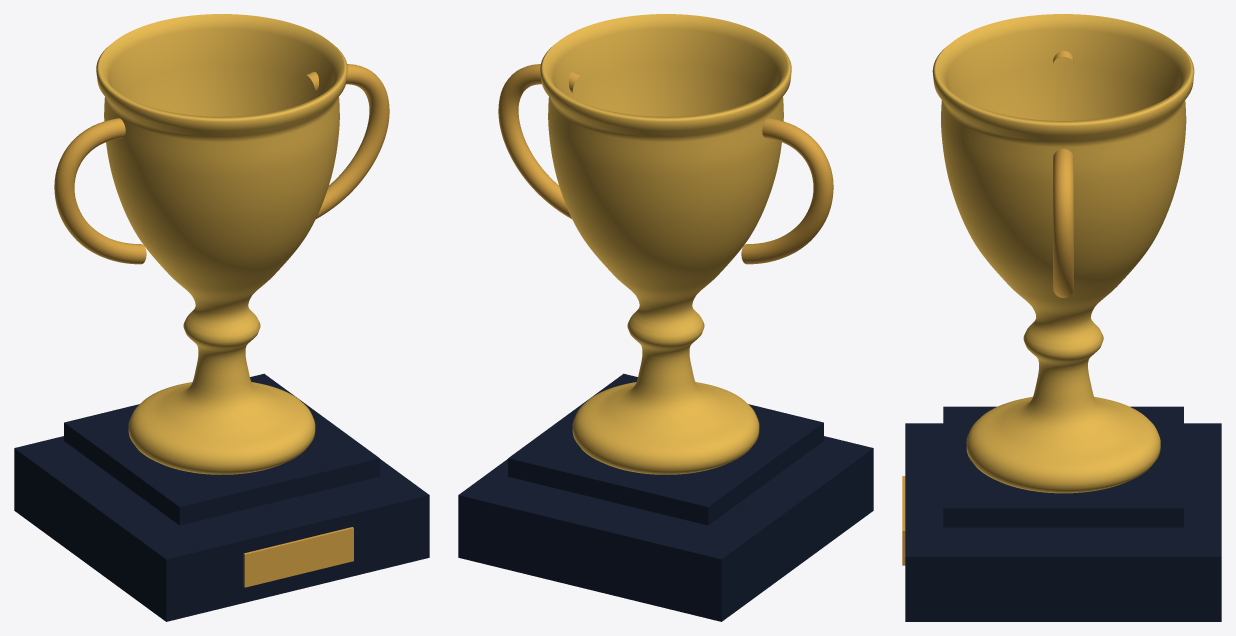
The model's file is trophy.glb.
3 renders of one model, left to right at view 1: azimuth 30°, elevation 25°; view 2: azimuth 150°, elevation 25°; view 3: azimuth 270°, elevation 25°, orthographic. The views are drawn at different scales.
Bounding box in the file's own units: 1.89 × 2.55 × 1.51.
